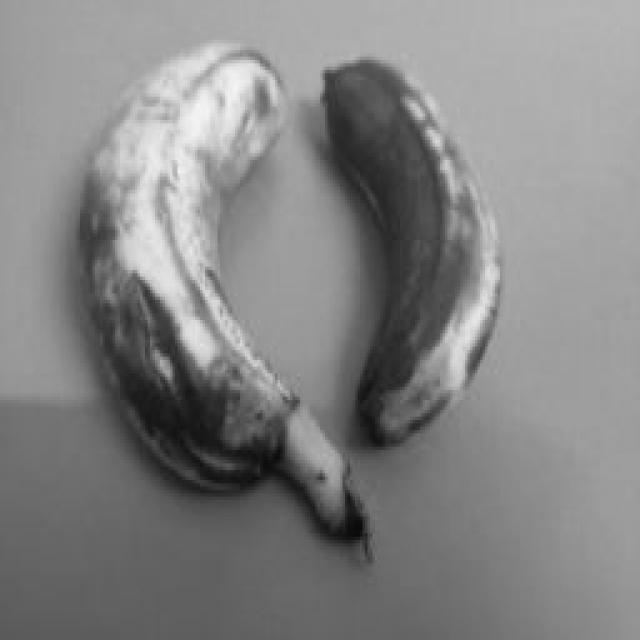Rotten: (58, 18, 304, 546), (308, 26, 548, 477)
